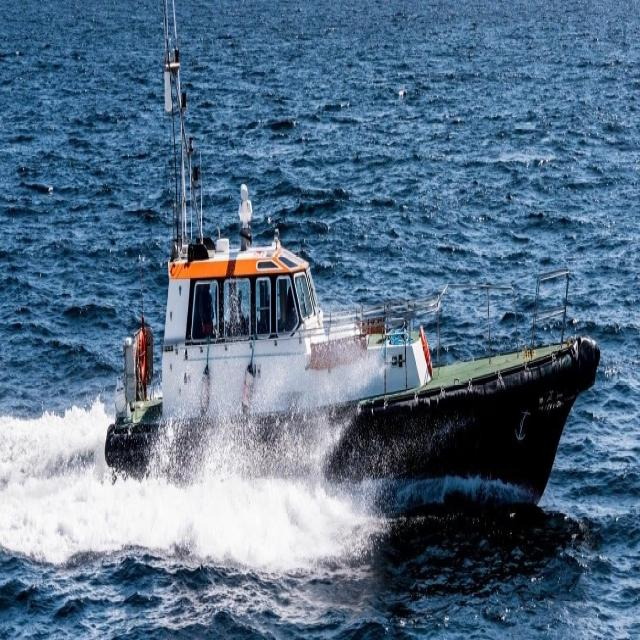houseboat: (102, 133, 586, 557)
